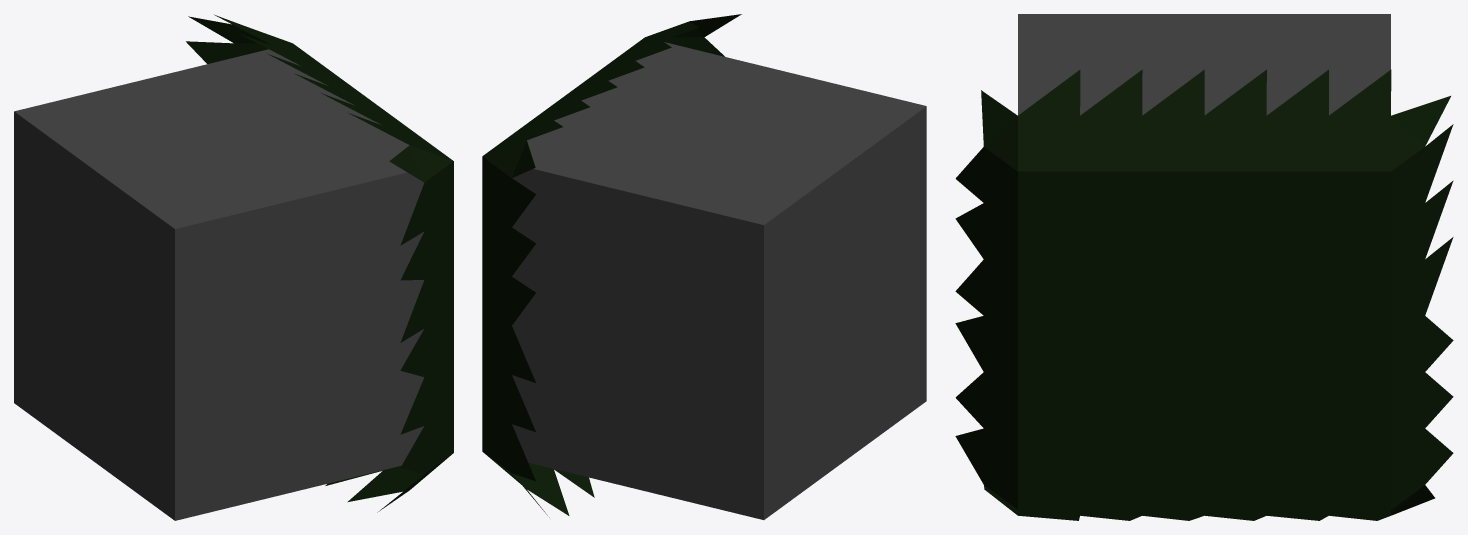
Rendered from Tile_Grass_Stone.fbx.
3 views of the same model, side by side, from view 1: azimuth 30°, elevation 25°; view 2: azimuth 150°, elevation 25°; view 3: azimuth 270°, elevation 25° (orthographic). The views are drawn at different scales.
Parts seen in each view (by area): view 1: block; view 2: block; view 3: block.
Boxes of the visible parts, box(x1,y1,x2,y2) form: block: box(14, 14, 453, 520); block: box(482, 14, 926, 519); block: box(955, 14, 1453, 520).
Bounding box in the file's own units: 39.37 × 52.58 × 52.58.
